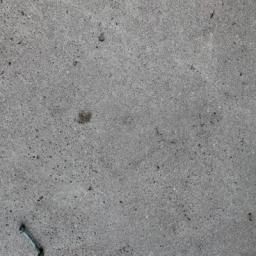FOD: (16, 223, 49, 256)
